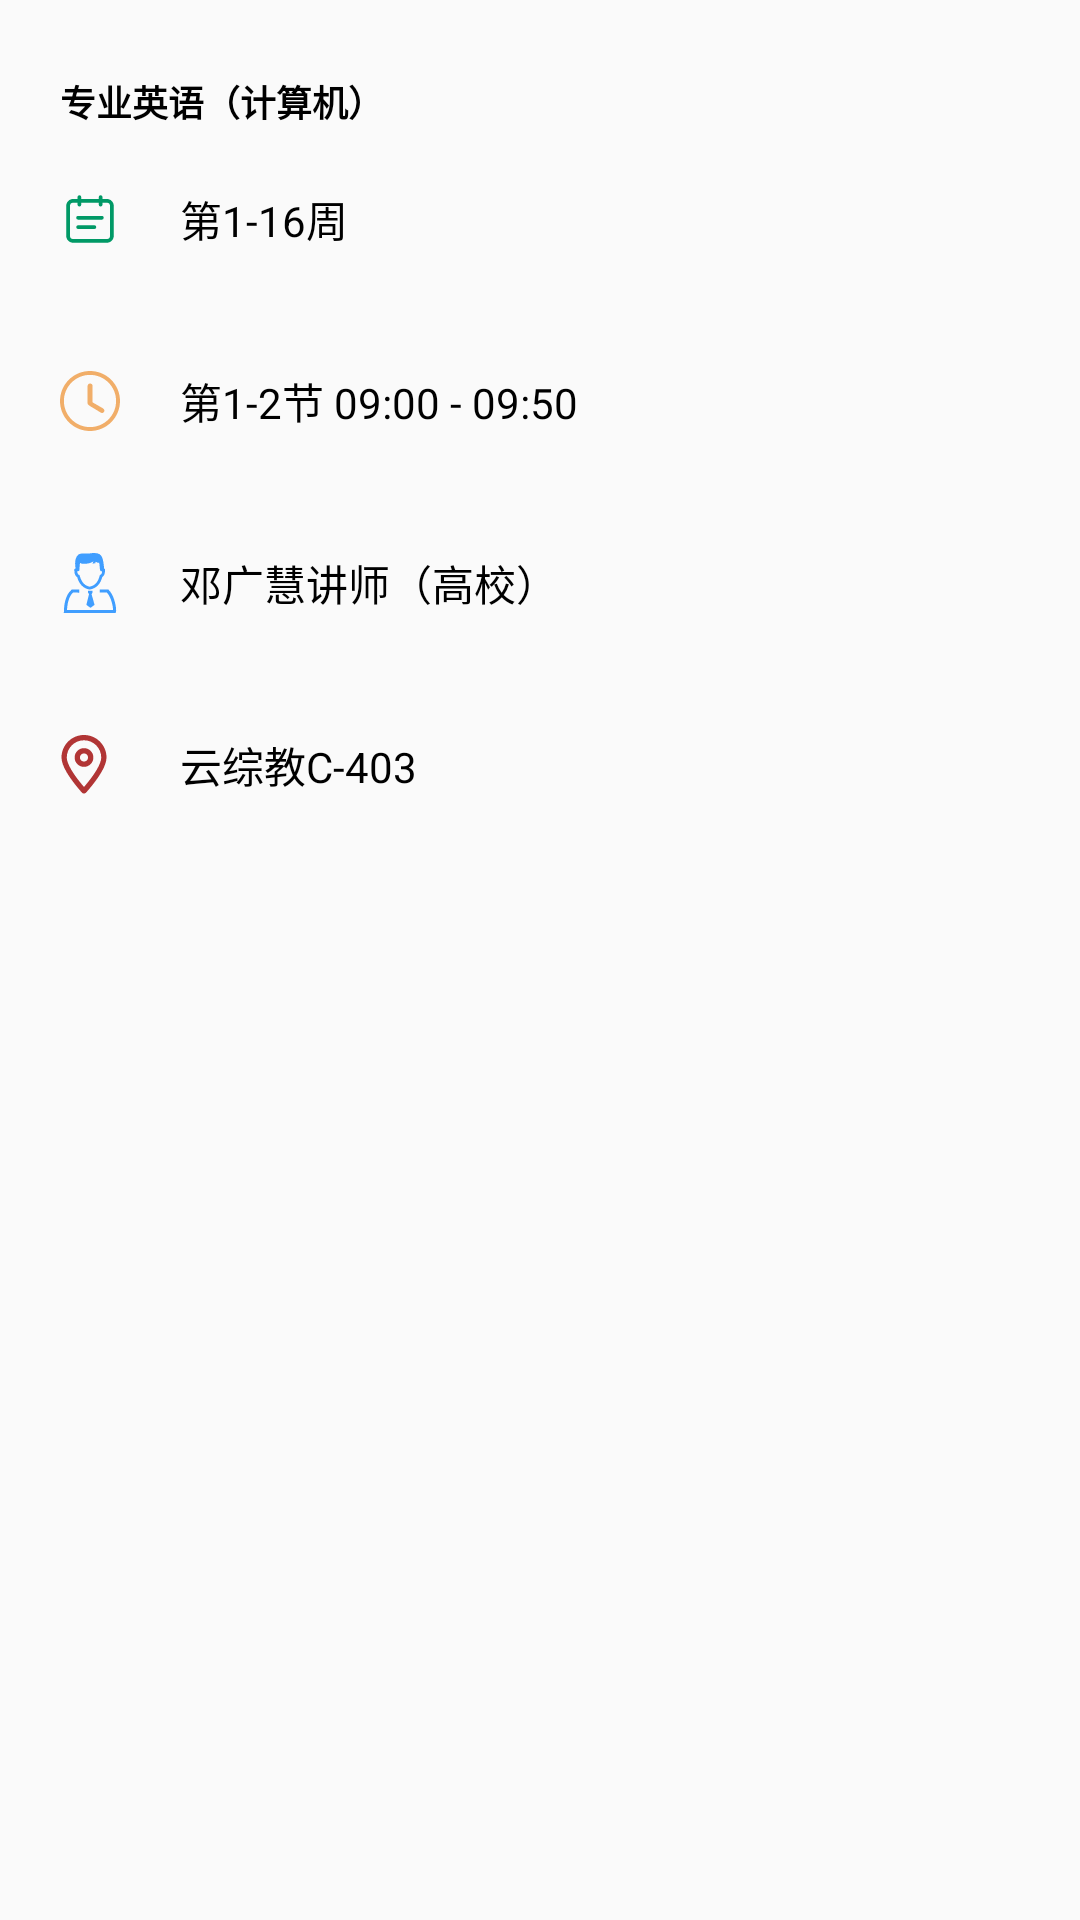

Where to tap for icons on this 1080px x 1920px app screen, as (x=x, y=y):
calendar: (x=90, y=219)
location: (x=84, y=764)
teacher: (x=89, y=583)
time: (x=90, y=401)
